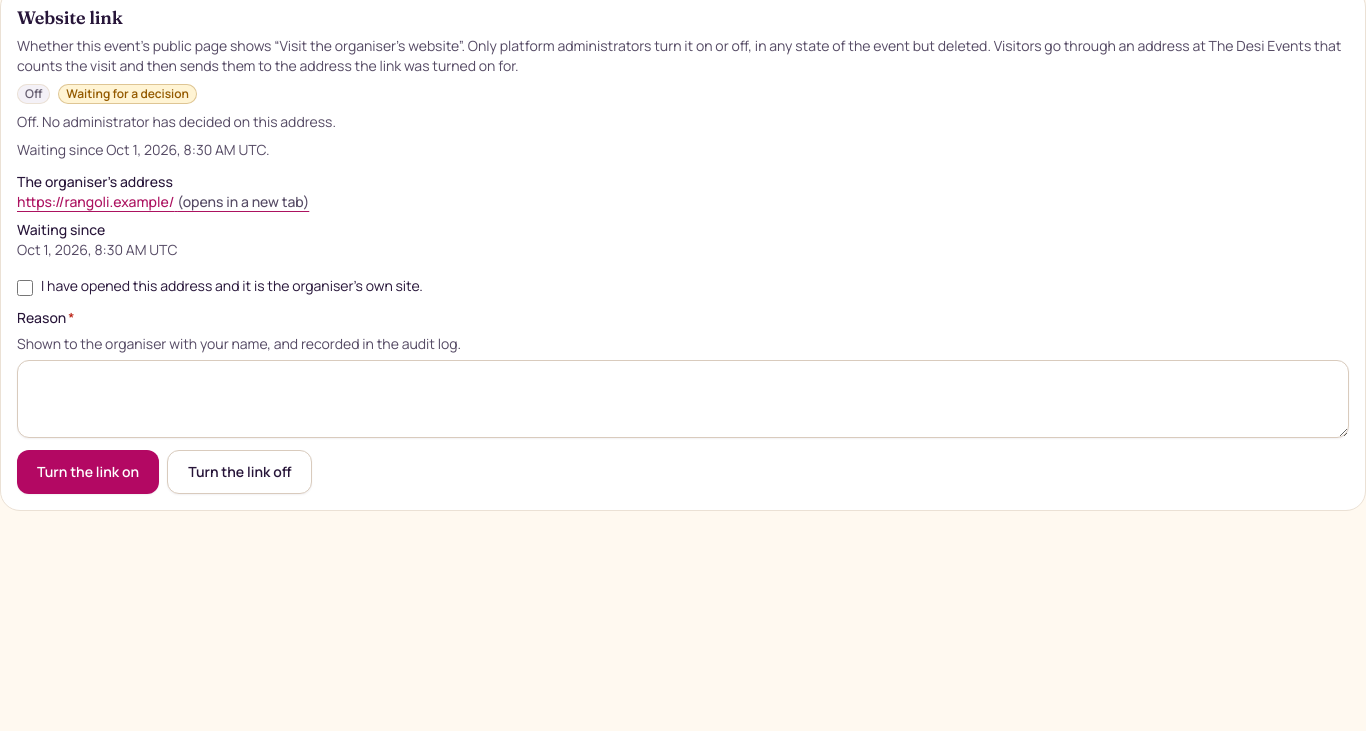
Test case: the website link panel › asks for a second factor when the API wants one, and sends the decision again after it
Click the checkbox labelled "I have opened this address and it is the organiser’s own site.".
click(25, 288)  # box [17,280,33,296]
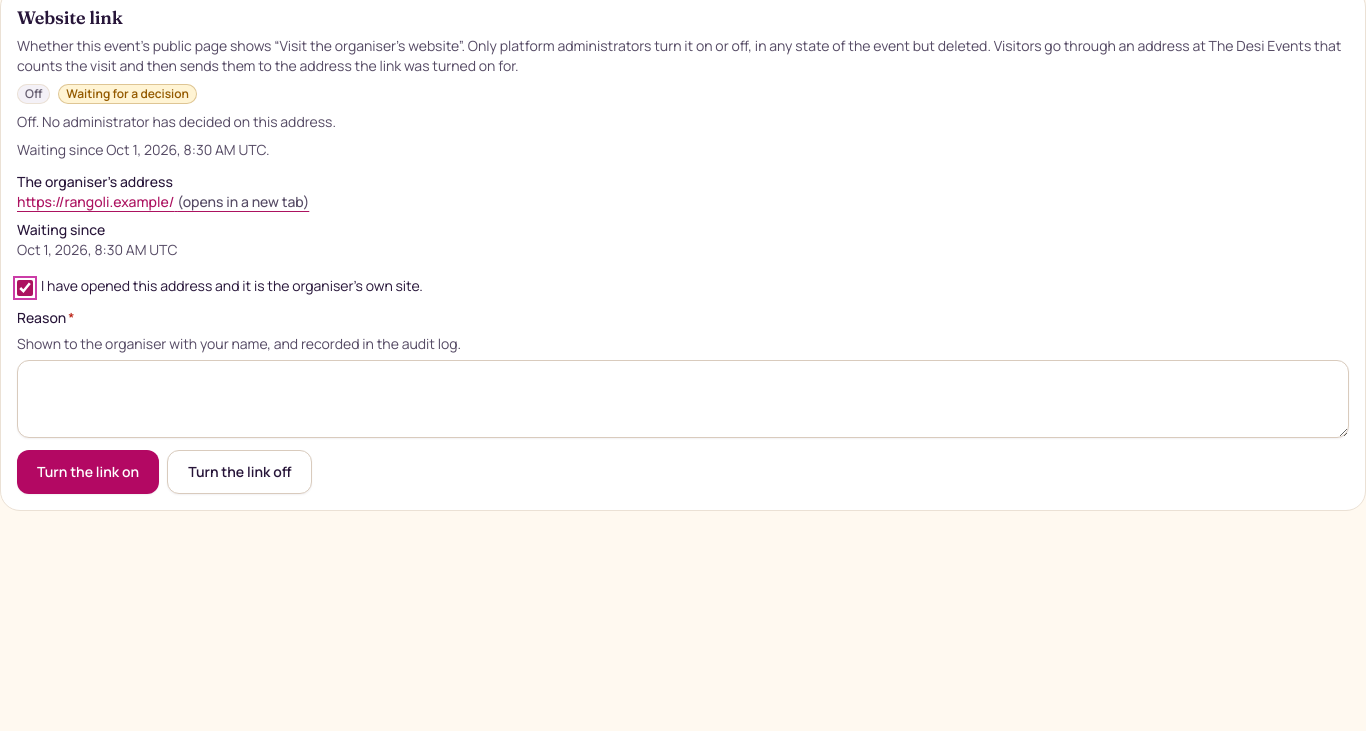
Type "Checked: their own site." into the text box labelled "Reason*".
click(683, 399); type("Checked: their own site.")  # box [17,360,1349,438]
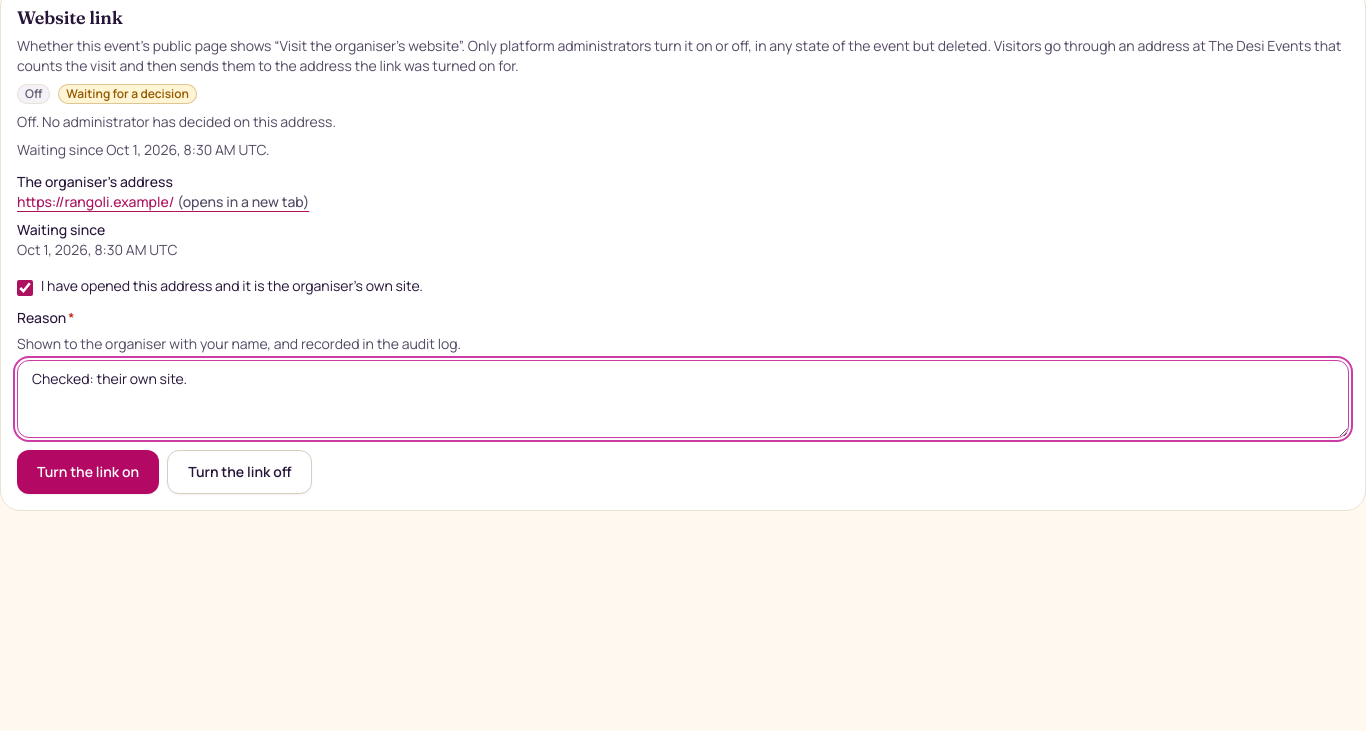
Click the button "Turn the link on".
click(88, 472)  # box [17,450,159,494]
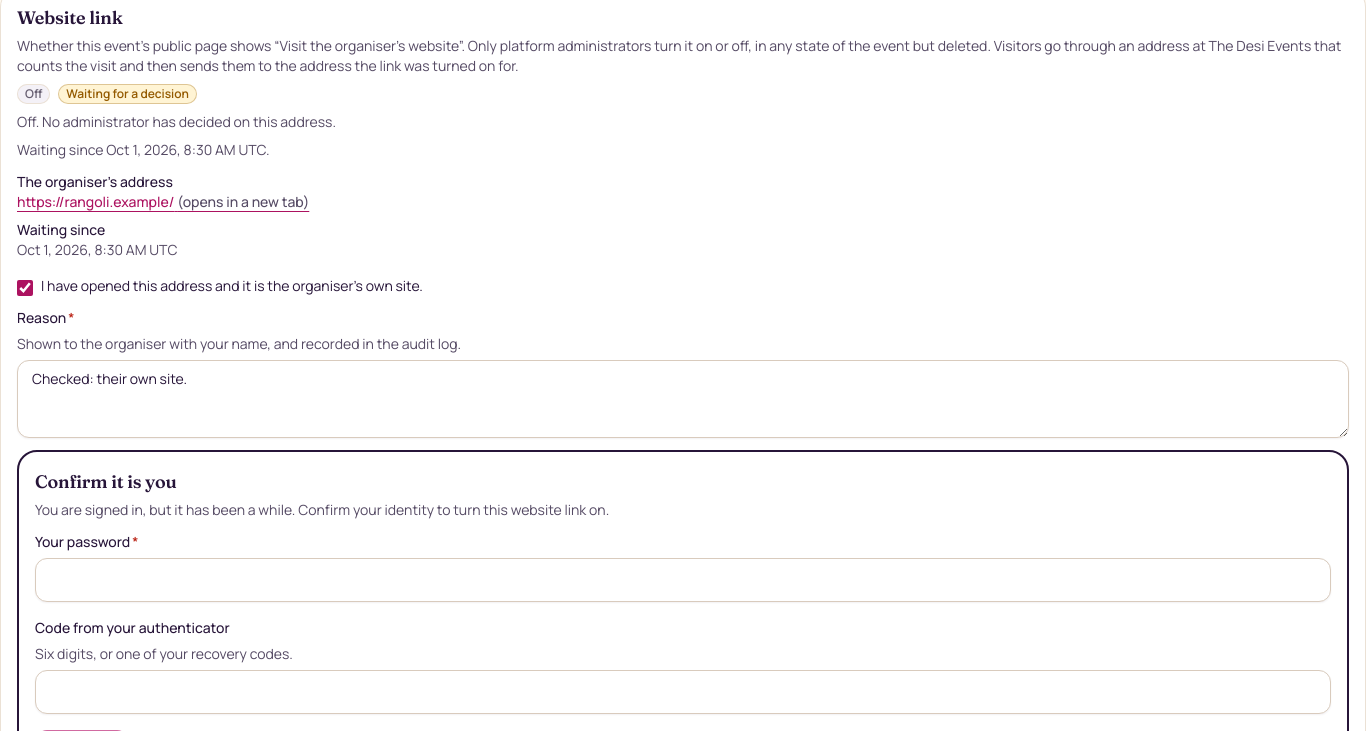
Expected: the heading "Confirm it is you" is shown, [35,470,177,493]
Expected: the text "turn this website link on" is shown, [453,500,606,519]
Type "correct-horse-battery" into the password field labelled "Your password*".
click(683, 580); type("correct-horse-battery")  # box [35,558,1331,602]
(page scrolled)
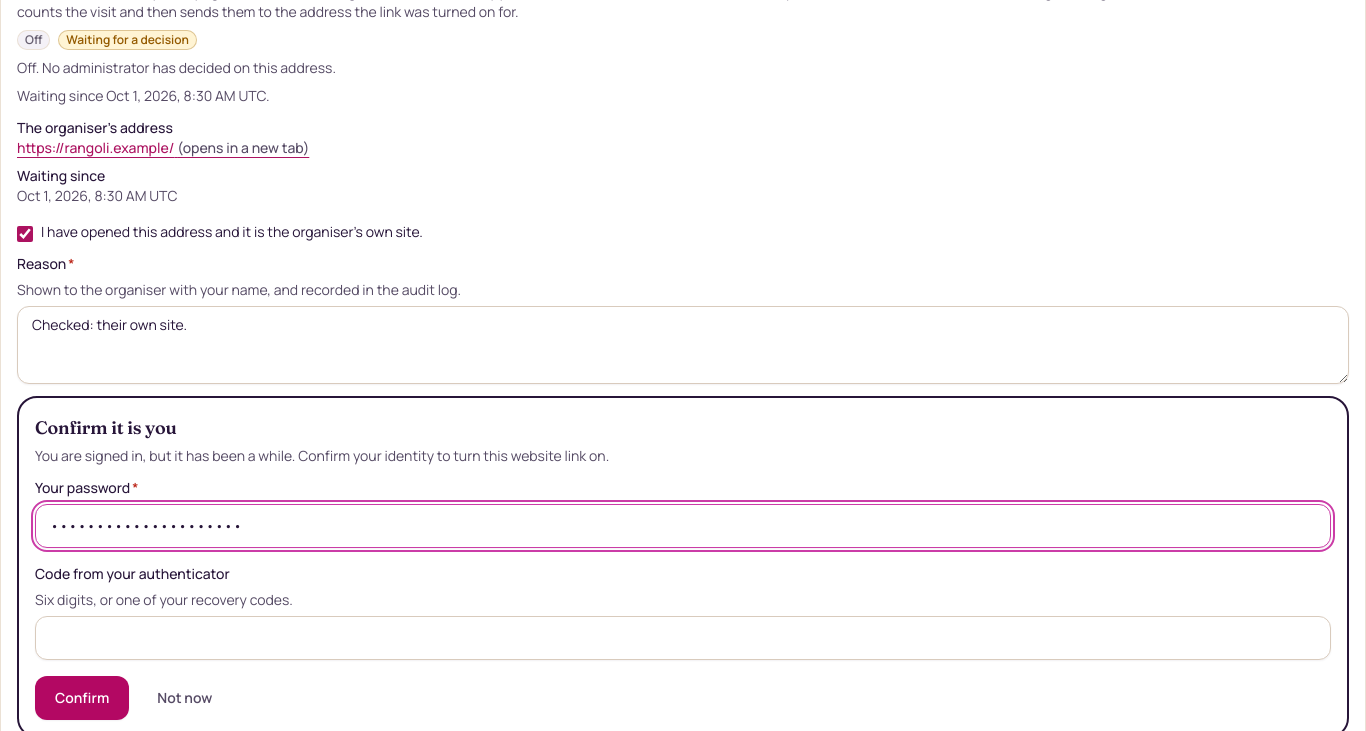
Click the button "Confirm".
click(82, 698)  # box [35,676,129,720]
(page scrolled)
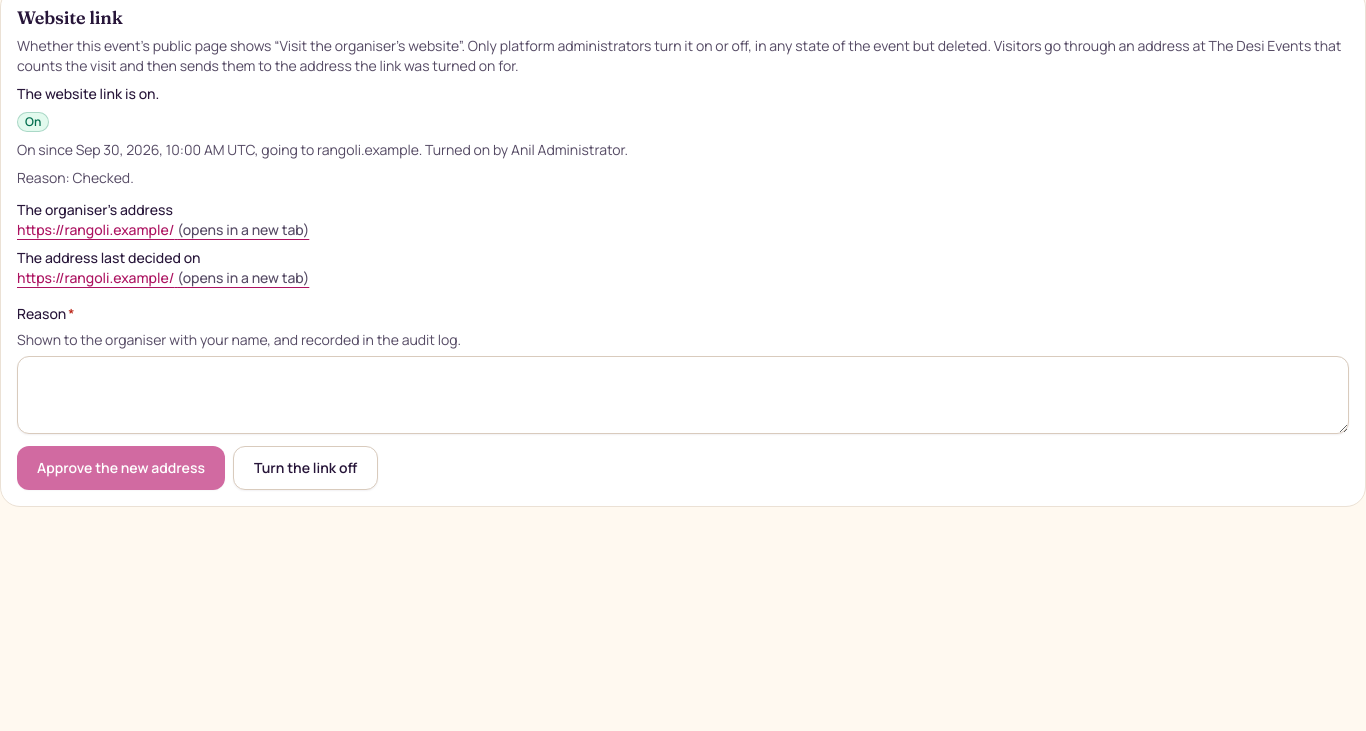
Expected: the text "The website link is on." is shown, [17,84,159,103]
